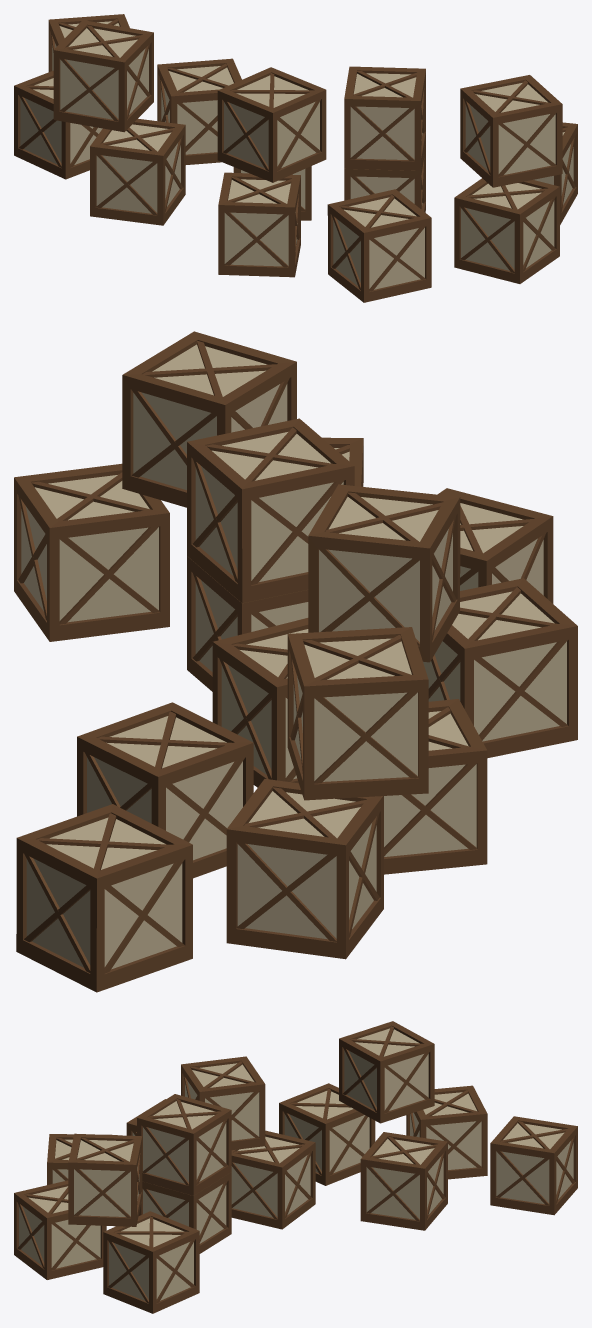
Rendered from Wooden_Boxes__002.fbx.
The picture shows the model from 3 angles, top to bottom: view 1: azimuth 30°, elevation 25°; view 2: azimuth 150°, elevation 25°; view 3: azimuth 270°, elevation 25°; orthographic projection. The views are drawn at different scales.
Visible parts, largest first — view 1: Wooden box-4; view 2: Wooden box-4; view 3: Wooden box-4.
Boxes of the visible parts, <box> form: Wooden box-4: <box>14,14,577,302</box>; Wooden box-4: <box>14,331,577,992</box>; Wooden box-4: <box>14,1021,577,1313</box>.
Size of the model in its own units: 6.16 by 2.12 by 8.71.
